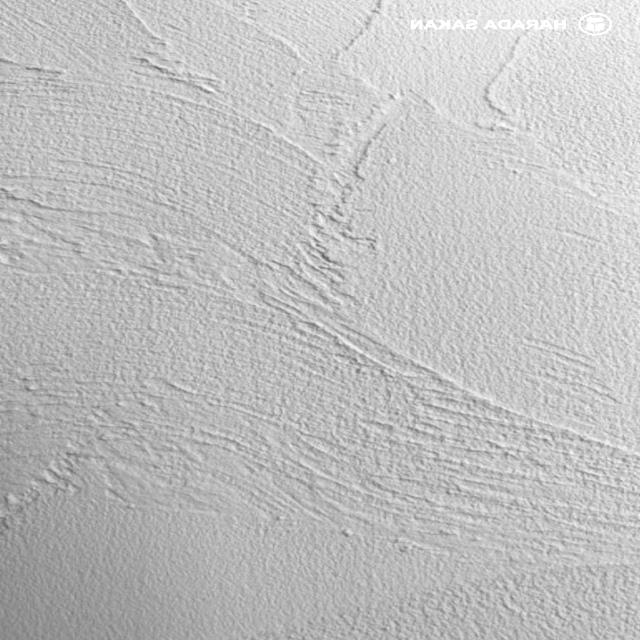trowels marks: (0, 0, 640, 510), (319, 494, 640, 640)
